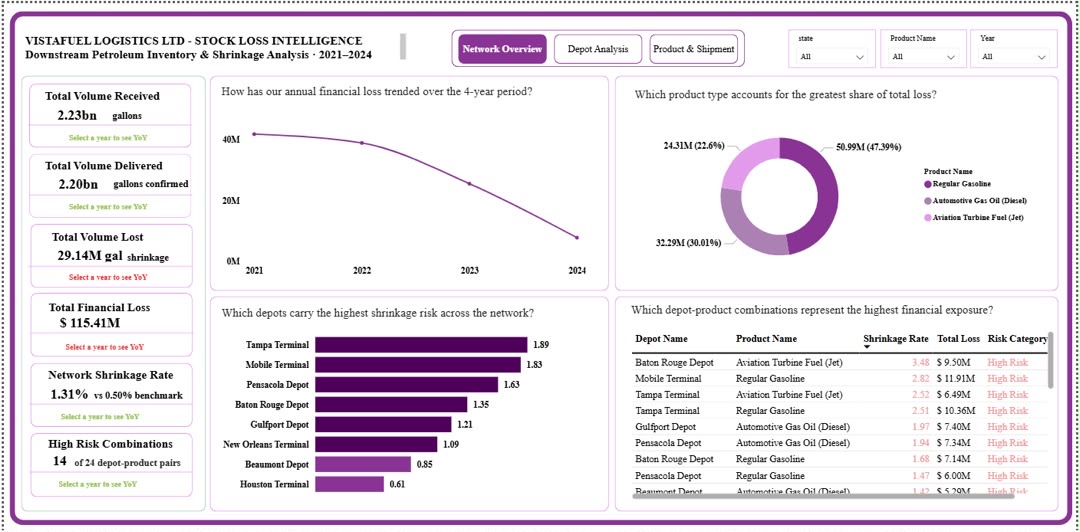

Layout of this report page (visuals, bound fields, positions):
{"tool":"powerbi","page":{"name":"Network Overview","canvas":[1457,720],"ordinal":0},"visuals":[{"type":"shape","box":[35.1,204.5,220.3,87],"z":0},{"type":"shape","box":[23.2,98.6,250.7,592.8],"z":1000},{"type":"shape","box":[0,0,1462.3,720.3],"z":2000},{"type":"shape","box":[7.2,11.6,1443.5,698.6],"z":3000},{"type":"shape","box":[36.2,584.1,220.3,87],"z":4000},{"type":"shape","box":[35.9,489.2,220.3,87],"z":5000},{"type":"shape","box":[35.7,394.3,220.3,87],"z":6000},{"type":"shape","box":[35.4,299.4,220.3,87],"z":7000},{"type":"shape","box":[34.8,110.1,220.3,87],"z":8000},{"type":"textbox","box":[23.2,36.2,527.5,46.4],"z":9000},{"type":"shape","box":[279.7,98.6,542,292.8],"z":10000},{"type":"shape","box":[279.7,398.6,542,292.8],"z":11000},{"type":"shape","box":[829,98.6,602.9,292.8],"z":12000},{"type":"shape","box":[829,398.6,602.9,292.8],"z":13000},{"type":"cardVisual","fields":{"Data":["_Measures.Total Received Gal"]},"box":[43.5,126.1,136.2,49.3],"z":14000},{"type":"cardVisual","fields":{"Data":["_Measures.High Risk Combos"]},"box":[37.7,597.1,82.6,49.3],"z":15000},{"type":"cardVisual","fields":{"Data":["_Measures.Shrinkage Rate %"]},"box":[34.8,505.8,110.1,49.3],"z":16000},{"type":"cardVisual","fields":{"Data":["_Measures.Total Loss Formatted"]},"box":[46.4,410.1,169.6,49.3],"z":17000},{"type":"cardVisual","fields":{"Data":["_Measures.Total Volume Lost Label"]},"box":[43.5,314.5,156.5,55.1],"z":18000},{"type":"cardVisual","fields":{"Data":["_Measures.Total Delivered Gal"]},"box":[44.9,220.3,133.3,49.3],"z":19000},{"type":"textbox","box":[36.2,111.6,195.7,34.8],"z":20000},{"type":"textbox","box":[40.6,584.1,208.7,30.4],"z":21000},{"type":"textbox","box":[43.5,489.9,202.9,30.4],"z":22000},{"type":"textbox","box":[20.3,398.6,218.8,30.4],"z":23000},{"type":"textbox","box":[55.1,302.9,144.9,30.4],"z":24000},{"type":"textbox","box":[33.3,205.8,205.8,30.4],"z":25000},{"type":"lineChart","fields":{"Category":["Date Table.Year"],"Y":["_Measures.Total Loss USD"]},"box":[291.3,129,504.3,249.3],"z":26000},{"type":"donutChart","fields":{"Category":["dim_product.product_name","dim_product.product_code"],"Y":["_Measures.Total Loss USD"]},"box":[852.2,153.6,552.2,218.8],"z":27000},{"type":"barChart","fields":{"Category":["dim_depot.depot_name"],"Y":["_Measures.Shrinkage Rate Numeric"]},"box":[291.3,430.4,515.9,250.7],"z":28000},{"type":"textbox","box":[290.6,104.7,437.5,45.3],"z":29000},{"type":"textbox","box":[852.2,110.1,427.5,46.4],"z":30000},{"type":"textbox","box":[291.3,405.8,504.3,47.8],"z":31000},{"type":"textbox","box":[846.4,401.4,539.1,46.4],"z":32000},{"type":"slicer","fields":{"Values":["Date Table.Year"]},"box":[1313,36.2,118.8,52.2],"z":33000},{"type":"slicer","fields":{"Values":["dim_product.product_name"]},"box":[1189.9,36.2,117.4,52.2],"z":34000},{"type":"slicer","fields":{"Values":["dim_depot.state"]},"box":[1065.2,36.2,118.8,52.2],"z":35000},{"type":"textbox","box":[142.2,137.5,64.1,32.8],"z":36000},{"type":"textbox","box":[143.8,229.7,121.9,32.8],"z":37000},{"type":"textbox","box":[162.3,329,110.1,33.3],"z":38000},{"type":"textbox","box":[117.4,517.4,134.8,33.3],"z":39000},{"type":"textbox","box":[89.9,608.7,166.7,33.3],"z":40000},{"type":"cardVisual","fields":{"Data":["_Measures.YoY Received Display"]},"box":[59.4,157.8,179.7,48.4],"z":41000},{"type":"cardVisual","fields":{"Data":["_Measures.YoY Rate Display"]},"box":[48.4,535.9,175,50],"z":42000},{"type":"cardVisual","fields":{"Data":["_Measures.YoY Loss Display"]},"box":[54.7,443.8,200,46.9],"z":43000},{"type":"cardVisual","fields":{"Data":["_Measures.YoY Shrinkage Display"]},"box":[59.4,348.4,171.9,46.9],"z":44000},{"type":"cardVisual","fields":{"Data":["_Measures.YoY Delivered Display"]},"box":[59.4,251.6,187.5,48.4],"z":45000},{"type":"shape","box":[607.2,36.2,398.6,50.7],"z":46000},{"type":"pageNavigator","box":[617.4,42,381.2,40.6],"z":47000},{"type":"shape","box":[33.3,155.1,221.7,21.7],"z":48000},{"type":"shape","box":[34.8,249.3,221.7,21.7],"z":49000},{"type":"shape","box":[33.3,346.4,221.7,21.7],"z":50000},{"type":"shape","box":[36.2,437.7,221.7,21.7],"z":51000},{"type":"shape","box":[34.8,626.1,221.7,21.7],"z":52000},{"type":"shape","box":[34.8,534.8,221.7,21.7],"z":53000},{"type":"tableEx","fields":{"Values":["dim_depot.depot_name","dim_product.product_name","_Measures.Shrinkage Rate Numeric","_Measures.Total Loss Formatted","_Measures.Risk Category"]},"box":[846.9,440.6,584.4,239.1],"z":54000},{"type":"cardVisual","fields":{"Data":["_Measures.YoY High Risk Display"]},"box":[45.3,628.1,175,50],"z":55000}]}

Visuals, with their boxes in screenshot pixels (x1, y1, x2, y2), scaled from the page's 1457x720 canvas onto the 1080x532 screenshot:
shape: 26, 151, 189, 215
shape: 17, 73, 203, 511
shape: 0, 0, 1079, 531
shape: 5, 9, 1075, 525
shape: 27, 432, 190, 496
shape: 27, 361, 190, 426
shape: 26, 291, 190, 356
shape: 26, 221, 190, 286
shape: 26, 81, 189, 146
textbox: 17, 27, 408, 61
shape: 207, 73, 609, 289
shape: 207, 295, 609, 511
shape: 614, 73, 1061, 289
shape: 614, 295, 1061, 511
cardVisual - _Measures.Total Received Gal: 32, 93, 133, 130
cardVisual - _Measures.High Risk Combos: 28, 441, 89, 478
cardVisual - _Measures.Shrinkage Rate %: 26, 374, 107, 410
cardVisual - _Measures.Total Loss Formatted: 34, 303, 160, 339
cardVisual - _Measures.Total Volume Lost Label: 32, 232, 148, 273
cardVisual - _Measures.Total Delivered Gal: 33, 163, 132, 199
textbox: 27, 82, 172, 108
textbox: 30, 432, 185, 454
textbox: 32, 362, 183, 384
textbox: 15, 295, 177, 317
textbox: 41, 224, 148, 246
textbox: 25, 152, 177, 175
lineChart - Date Table.Year x _Measures.Total Loss USD: 216, 95, 590, 280
donutChart - dim_product.product_name x dim_product.product_code: 632, 113, 1041, 275
barChart - dim_depot.depot_name x _Measures.Shrinkage Rate Numeric: 216, 318, 598, 503
textbox: 215, 77, 540, 111
textbox: 632, 81, 949, 116
textbox: 216, 300, 590, 335
textbox: 627, 297, 1027, 331
slicer - Date Table.Year: 973, 27, 1061, 65
slicer - dim_product.product_name: 882, 27, 969, 65
slicer - dim_depot.state: 790, 27, 878, 65
textbox: 105, 102, 153, 126
textbox: 107, 170, 197, 194
textbox: 120, 243, 202, 268
textbox: 87, 382, 187, 407
textbox: 67, 450, 190, 474
cardVisual - _Measures.YoY Received Display: 44, 117, 177, 152
cardVisual - _Measures.YoY Rate Display: 36, 396, 166, 433
cardVisual - _Measures.YoY Loss Display: 41, 328, 189, 363
cardVisual - _Measures.YoY Shrinkage Display: 44, 257, 171, 292
cardVisual - _Measures.YoY Delivered Display: 44, 186, 183, 222
shape: 450, 27, 746, 64
pageNavigator: 458, 31, 740, 61
shape: 25, 115, 189, 131
shape: 26, 184, 190, 200
shape: 25, 256, 189, 272
shape: 27, 323, 191, 339
shape: 26, 463, 190, 479
shape: 26, 395, 190, 411
tableEx - dim_depot.depot_name x dim_product.product_name: 628, 326, 1061, 502
cardVisual - _Measures.YoY High Risk Display: 34, 464, 163, 501
